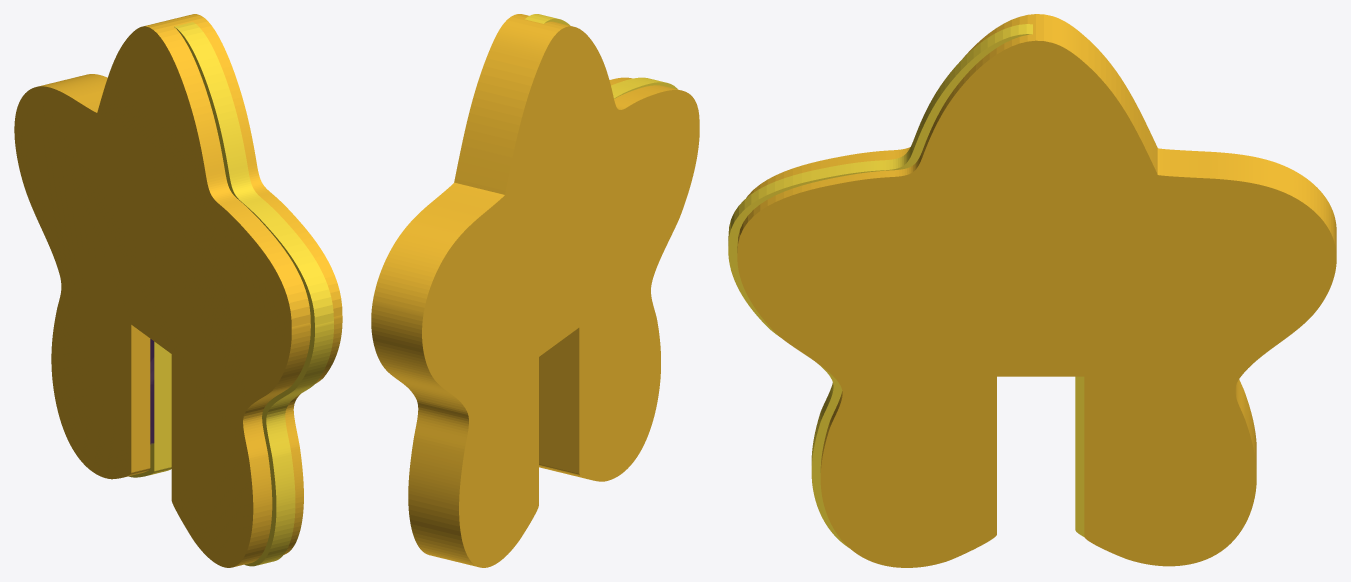
The model's file is topper-star-03.glb.
3 renders of one model, left to right at view 1: azimuth 30°, elevation 25°; view 2: azimuth 150°, elevation 25°; view 3: azimuth 270°, elevation 25°, orthographic. The views are drawn at different scales.
Visible parts, largest first — view 1: topper-star-03; view 2: topper-star-03; view 3: topper-star-03.
Boxes of the visible parts, box(x1,y1,x2,y2) form: topper-star-03: box(14, 14, 342, 567); topper-star-03: box(371, 14, 699, 567); topper-star-03: box(728, 14, 1336, 567).
Size of the model in its own units: 24 by 221 by 231.
Materials: 4 (2 with a texture image).
